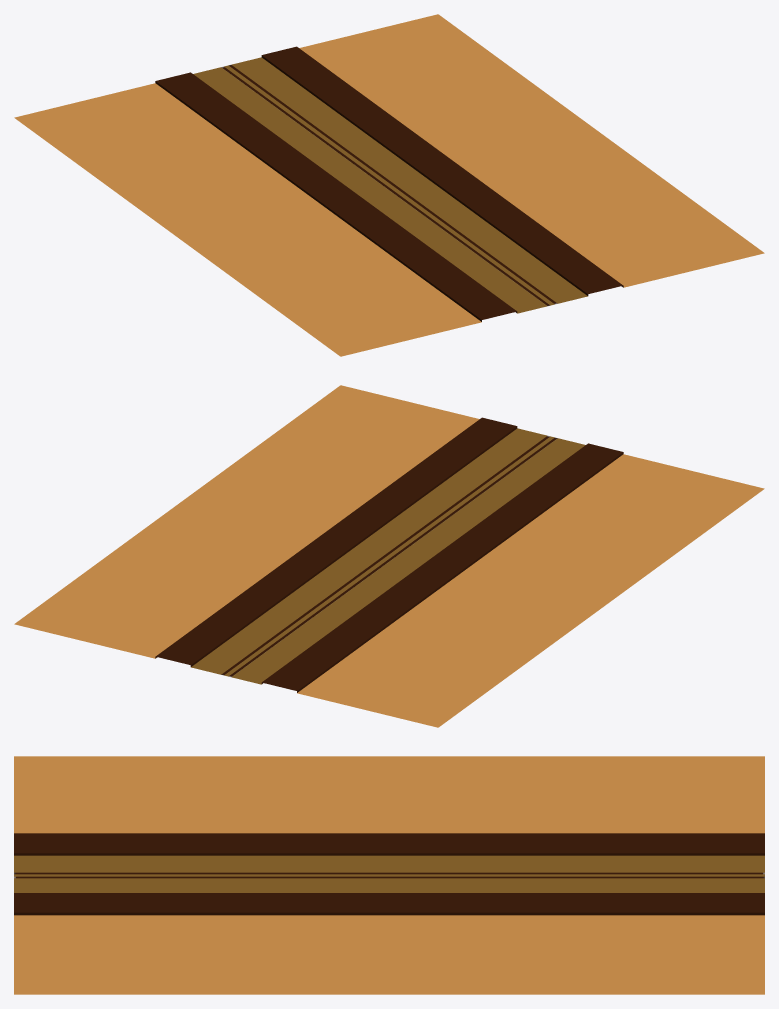
Rendered from Road 1.1.fbx.
The picture shows the model from 3 angles, top to bottom: view 1: azimuth 30°, elevation 25°; view 2: azimuth 150°, elevation 25°; view 3: azimuth 270°, elevation 25°; orthographic projection. The views are drawn at different scales.
Visible parts, largest first — view 1: Plane; view 2: Plane; view 3: Plane.
Boxes of the visible parts, left/top/right/bottom form: Plane: left=14, top=14, right=764, bottom=356; Plane: left=14, top=385, right=764, bottom=727; Plane: left=14, top=756, right=764, bottom=994.
Size of the model in its own units: 12 by 0.0581 by 16.
